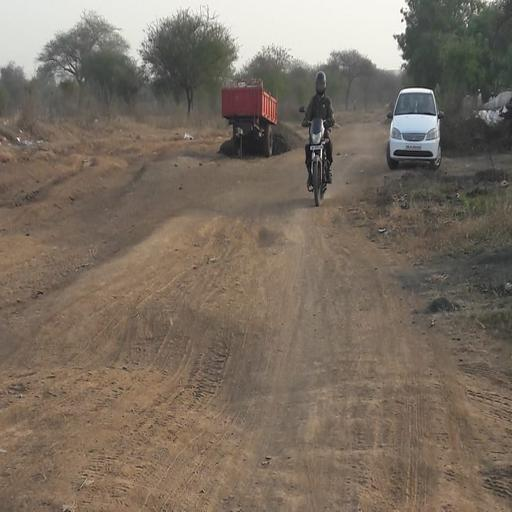vehicle_track: (0, 212, 451, 512)
